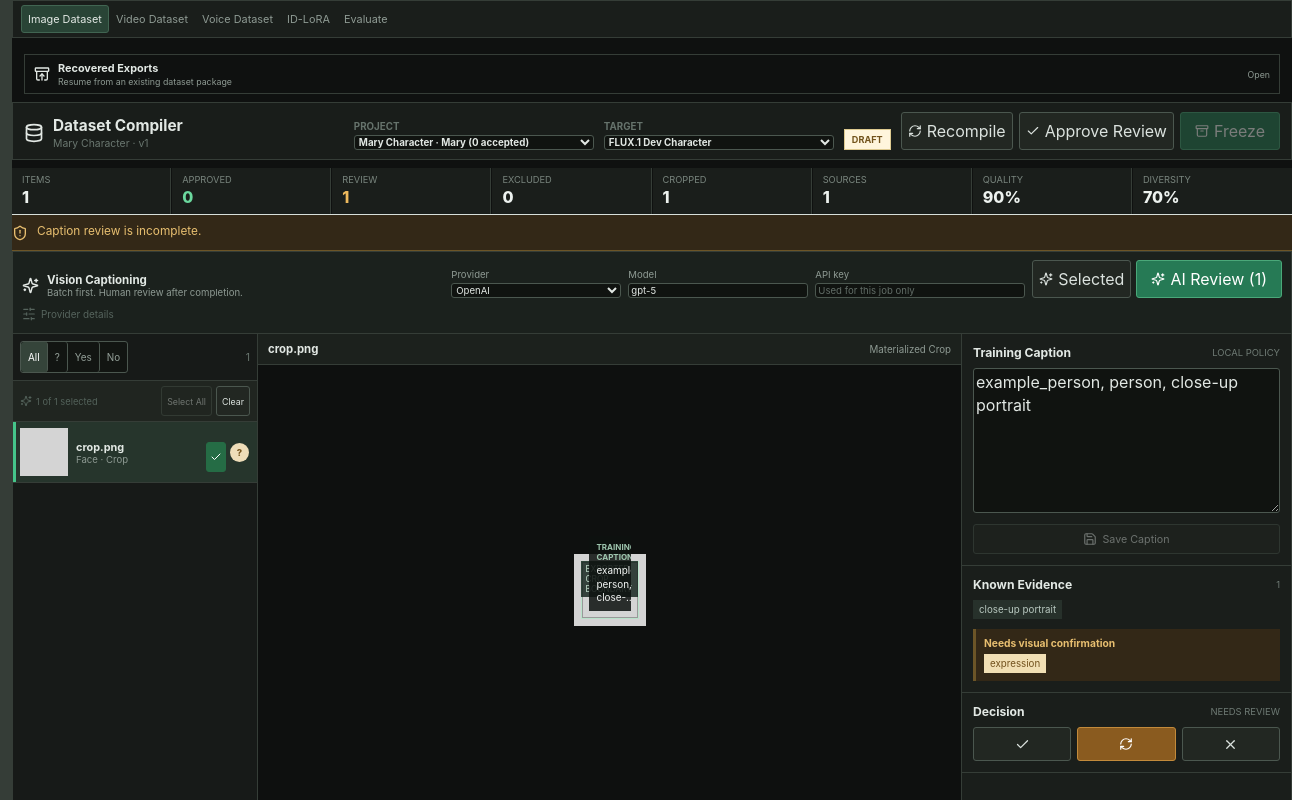
it: TrainTab › generates a selected vision caption, clears the key, and restores review
This screenshot has width=1292, height=800.
Step 1. Type "job-secret" into the password field named "Vision API key" → (920, 290), box [815,283,1025,298]
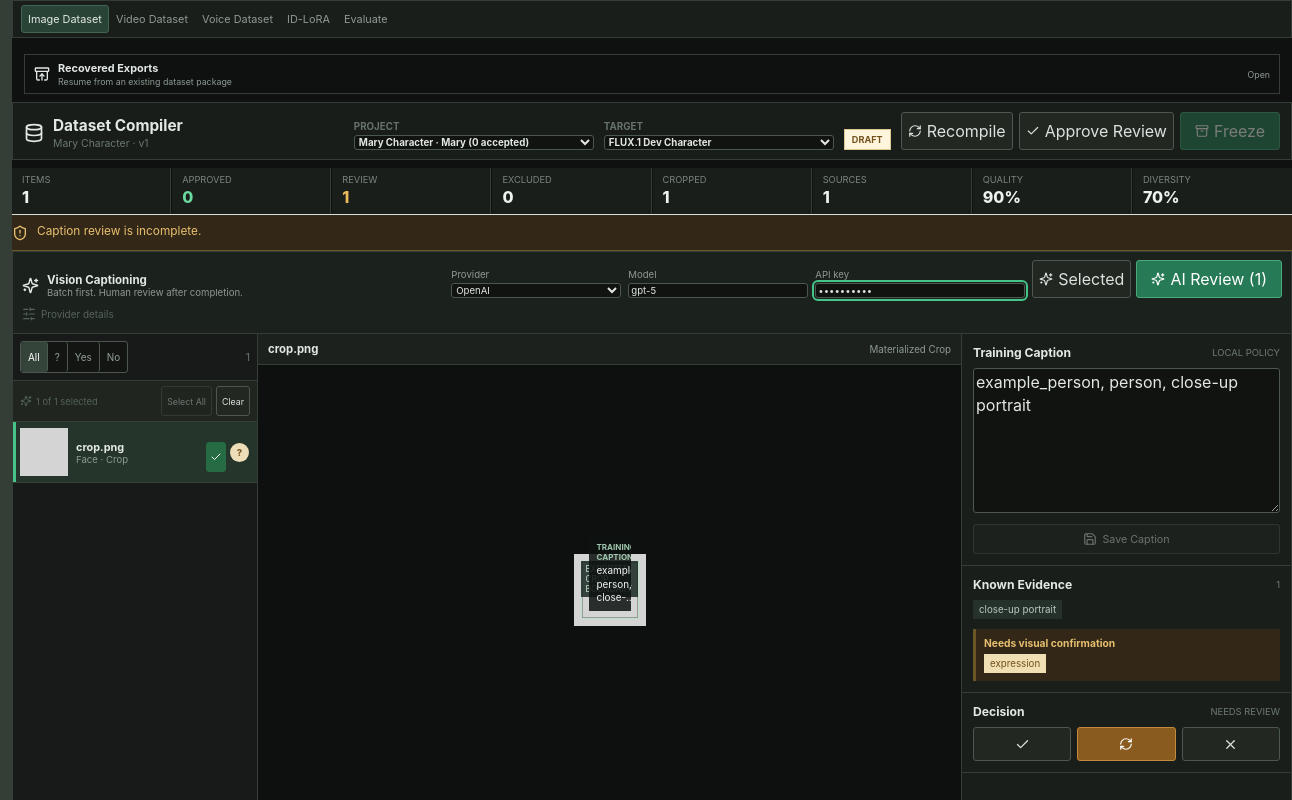
Step 2. Click the button "Selected" → (1082, 279), box [1032,260,1131,298]
(page scrolled)
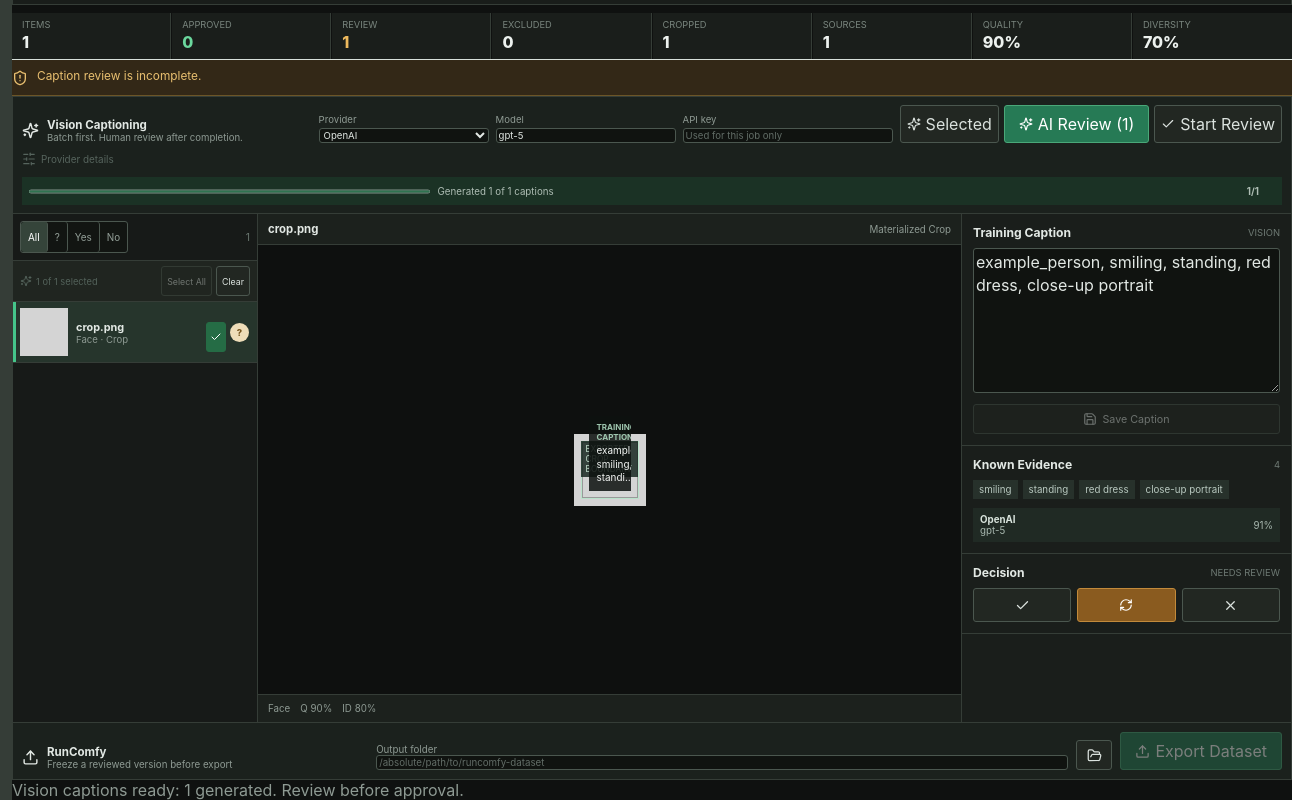
Check: the password field named "Vision API key" is empty, box [683,128,893,143]
Check: the text box named "Training caption" holds "example_person, smiling, standing, red dress, close-up portrait", box [973,248,1280,393]
Check: the text "91%" is shown, box [1253,520,1273,531]
